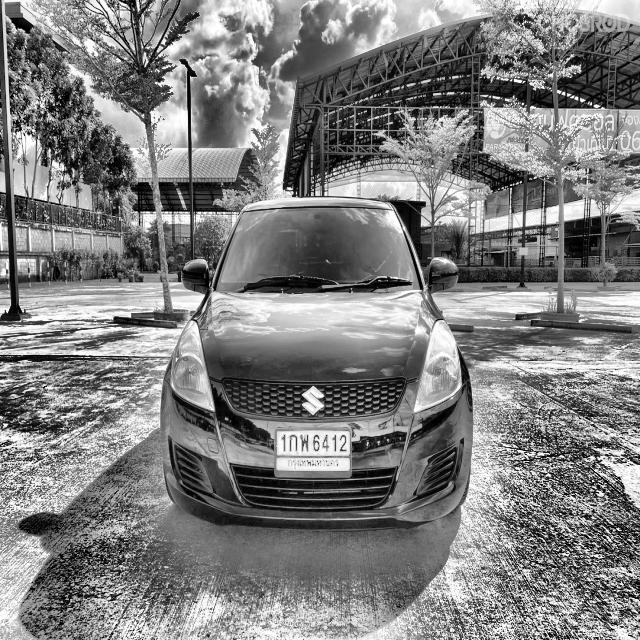license-plate: (274, 426, 351, 476)
